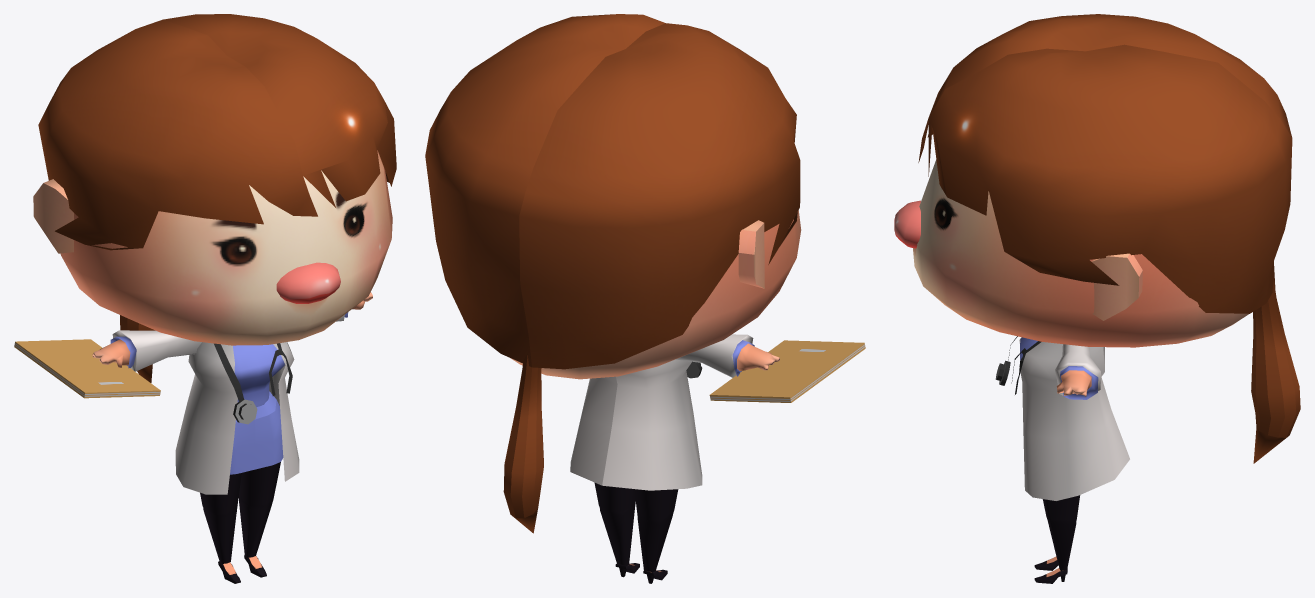
File: Char_Sci_HS_04.fbx
The picture shows the model from 3 angles, left to right: view 1: azimuth 30°, elevation 25°; view 2: azimuth 150°, elevation 25°; view 3: azimuth 270°, elevation 25°; orthographic projection. The views are drawn at different scales.
Visible parts, largest first — view 1: Hair_Physiatrist, Head_Physiatrist, Coat_Physiatrist, File_Physiatrist, Skirt_Physiatrist, L_Leg_Physiatrist, R_Arm_Physiatrist, R_Leg_Physiatrist, Body_Physiatrist, Nose_Physiatrist, R_Ear_Physiatrist, Stethoscope_Physiatrist; view 2: Hair_Physiatrist, Coat_Physiatrist, Head_Physiatrist, File_Physiatrist, Ponytail_Physiatrist, R_Leg_Physiatrist, L_Leg_Physiatrist, R_Arm_Physiatrist, R_Ear_Physiatrist; view 3: Hair_Physiatrist, Head_Physiatrist, Coat_Physiatrist, Ponytail_Physiatrist, L_Ear_Physiatrist, L_Arm_Physiatrist, L_Leg_Physiatrist, Nose_Physiatrist.
Part boxes in pixels (x1,y1,x2,y2): Hair_Physiatrist: [38, 14, 396, 250]; Head_Physiatrist: [60, 150, 392, 345]; Coat_Physiatrist: [175, 342, 299, 494]; File_Physiatrist: [14, 339, 160, 398]; Skirt_Physiatrist: [230, 391, 283, 474]; L_Leg_Physiatrist: [238, 462, 280, 577]; R_Arm_Physiatrist: [92, 330, 201, 371]; R_Leg_Physiatrist: [200, 473, 241, 583]; Body_Physiatrist: [233, 344, 284, 407]; Nose_Physiatrist: [276, 262, 340, 303]; R_Ear_Physiatrist: [33, 179, 73, 253]; Stethoscope_Physiatrist: [214, 343, 292, 424]; Hair_Physiatrist: [425, 14, 800, 369]; Coat_Physiatrist: [570, 359, 702, 490]; Head_Physiatrist: [510, 210, 801, 379]; File_Physiatrist: [709, 340, 865, 402]; Ponytail_Physiatrist: [503, 354, 543, 533]; R_Leg_Physiatrist: [634, 489, 678, 583]; L_Leg_Physiatrist: [594, 482, 639, 577]; R_Arm_Physiatrist: [676, 334, 779, 377]; R_Ear_Physiatrist: [738, 220, 764, 288]; Hair_Physiatrist: [918, 14, 1292, 313]; Head_Physiatrist: [913, 160, 1248, 347]; Coat_Physiatrist: [1019, 337, 1129, 500]; Ponytail_Physiatrist: [1251, 279, 1300, 463]; L_Ear_Physiatrist: [1091, 253, 1142, 320]; L_Arm_Physiatrist: [1055, 344, 1100, 399]; L_Leg_Physiatrist: [1034, 495, 1080, 583]; Nose_Physiatrist: [894, 200, 920, 248].
Bounding box in the file's own units: 4.69 × 6.77 × 4.7.
